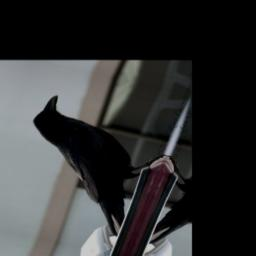Crow: (0, 91, 179, 240)
